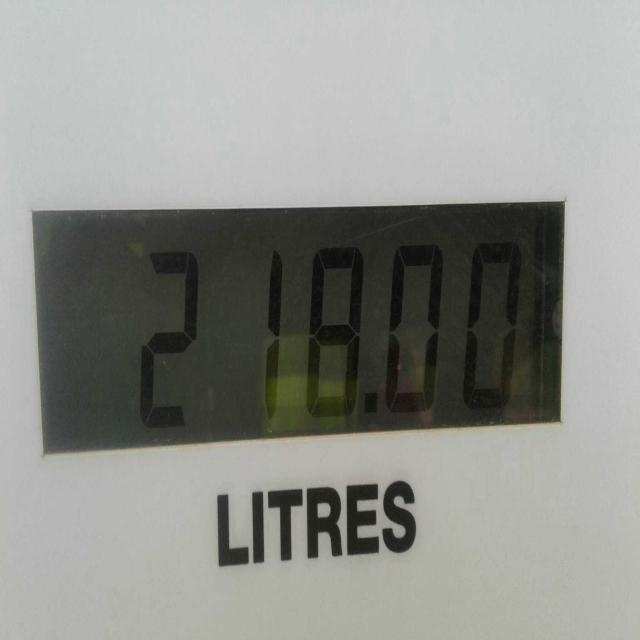.: (360, 377, 387, 429)
0: (372, 235, 460, 438), (458, 229, 534, 414)
1: (238, 242, 308, 448)
2: (128, 247, 210, 440)
8: (298, 236, 368, 437)
